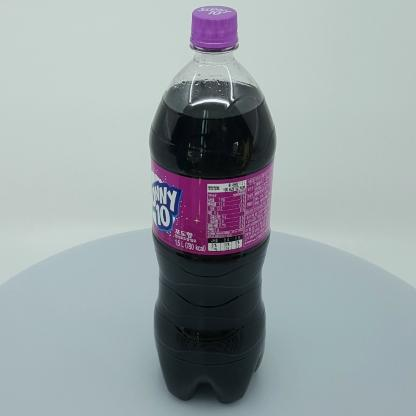-----------1-5L: (149, 5, 276, 404)
